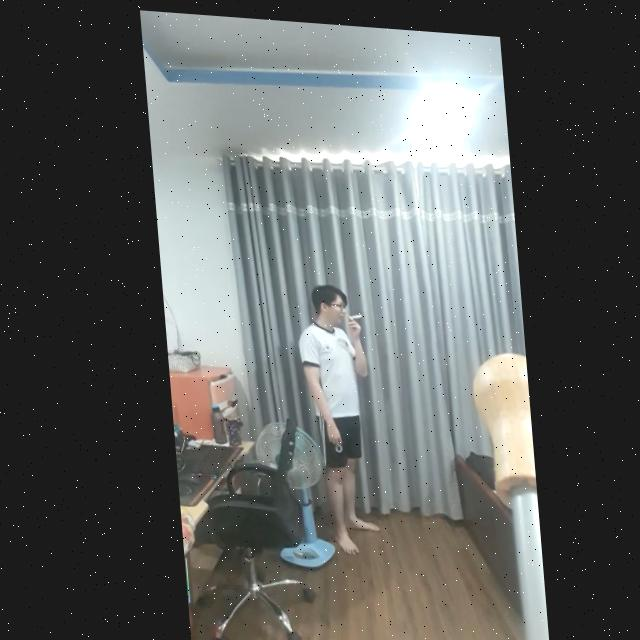cigarette: (345, 310, 357, 315)
